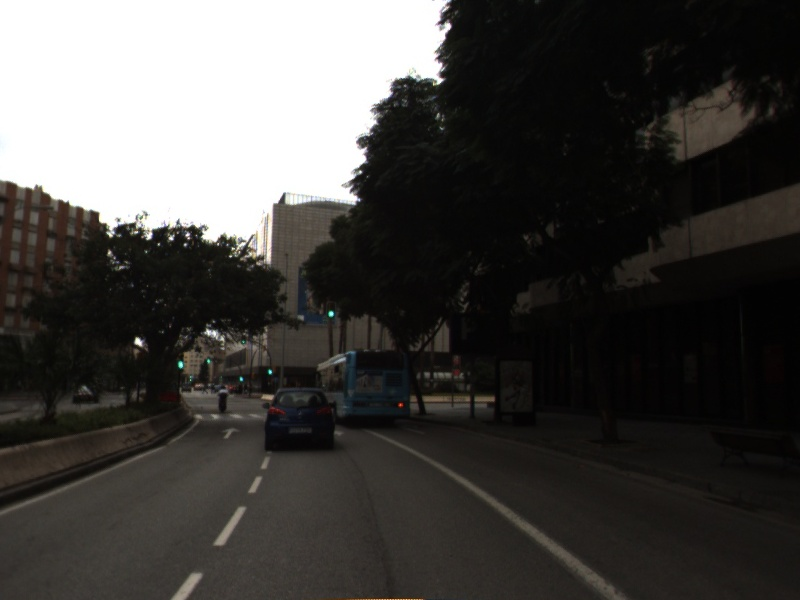STRAIGHT: (219, 426, 243, 441)
